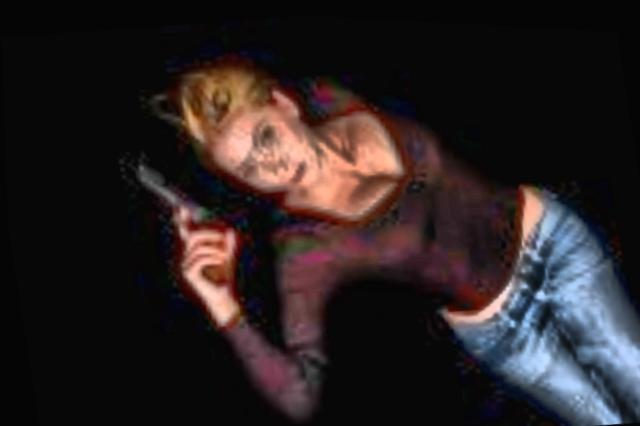pistol: (116, 139, 240, 303)
